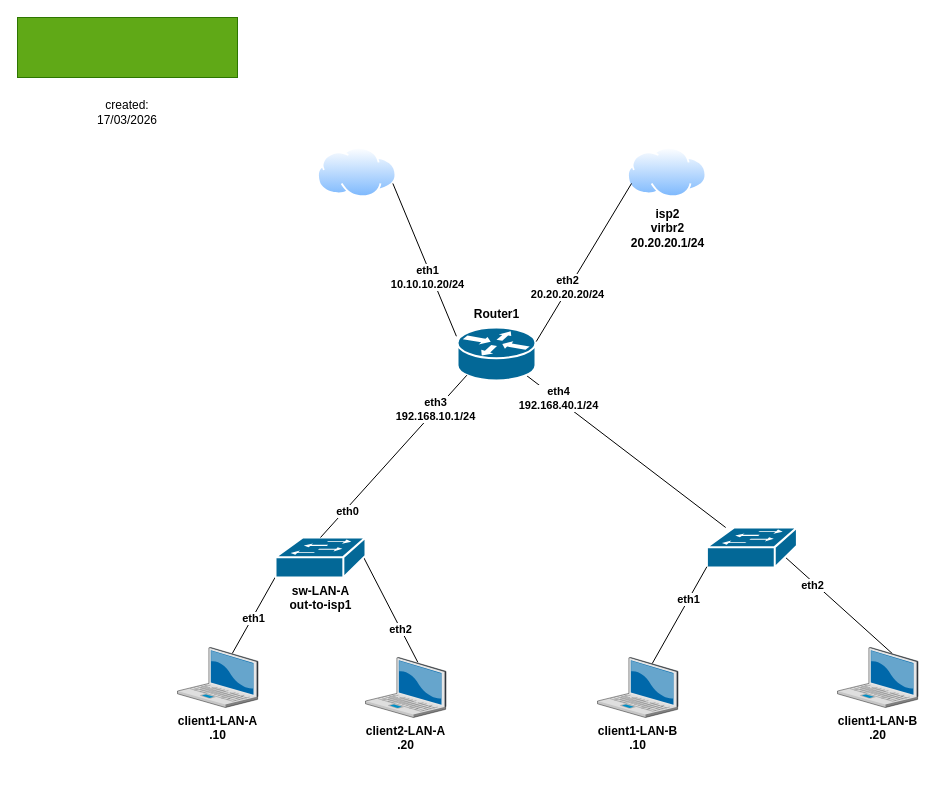
Some shapes in this 935 by 785 pixel diagram are drawn without their labels. Here are the shapes that lost their labels. From the top down, the box of each, then its label:
(16, 16, 238, 78): policy-based-routing
(317, 147, 396, 197): isps1 virbr1 10.10.10.1/24
(705, 526, 797, 568): sw-LAN-B out-to-isp2
